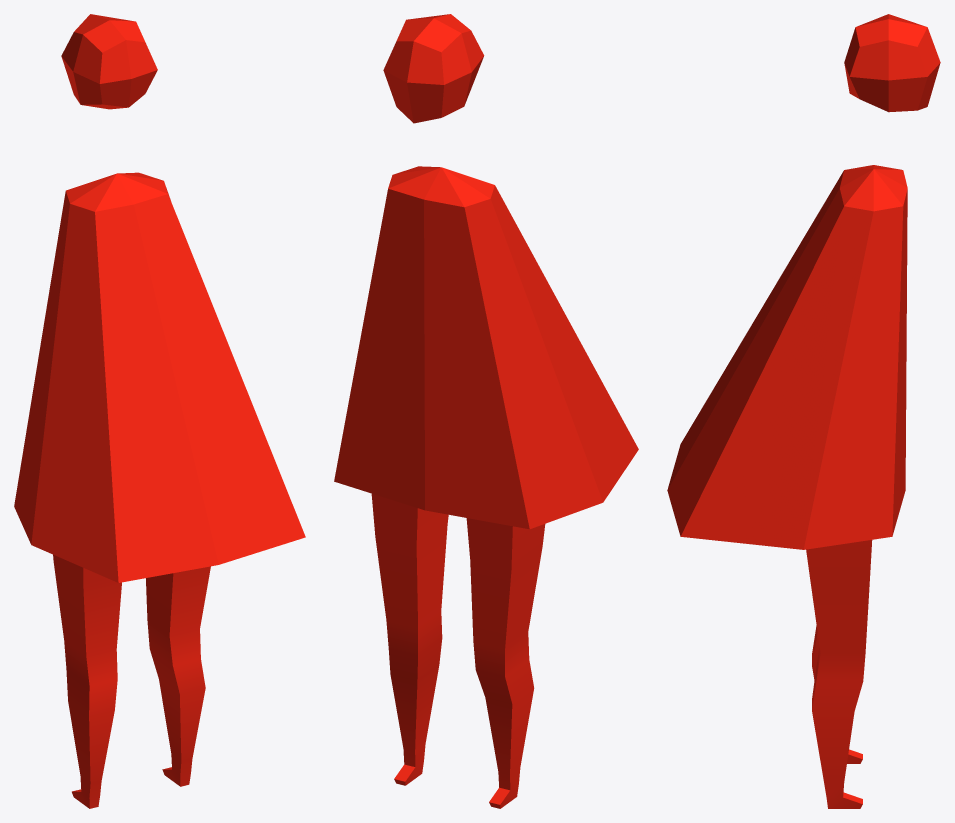
Rendered from Charcter.fbx.
The picture shows the model from 3 angles, left to right: view 1: azimuth 30°, elevation 25°; view 2: azimuth 150°, elevation 25°; view 3: azimuth 270°, elevation 25°; orthographic projection. The views are drawn at different scales.
Visible parts, largest first — view 1: Cone, Pyramid, Platonic; view 2: Cone, Pyramid, Platonic; view 3: Cone, Pyramid, Platonic.
Boxes of the visible parts, x1=… form: Cone: x1=14, y1=172, x2=305, y2=582; Pyramid: x1=53, y1=554, x2=210, y2=808; Platonic: x1=61, y1=14, x2=157, y2=109; Cone: x1=334, y1=166, x2=638, y2=529; Pyramid: x1=371, y1=493, x2=545, y2=808; Platonic: x1=383, y1=14, x2=484, y2=123; Cone: x1=667, y1=165, x2=907, y2=549; Pyramid: x1=806, y1=540, x2=872, y2=808; Platonic: x1=844, y1=14, x2=940, y2=112.
Size of the model in its own units: 141 by 422 by 137.
